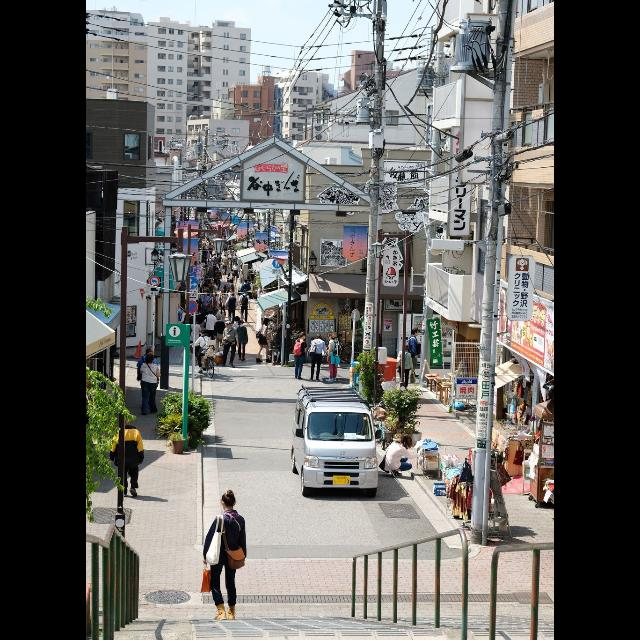head: (220, 492, 238, 512), (402, 434, 412, 448), (121, 414, 132, 426), (146, 353, 154, 362), (146, 348, 154, 356), (412, 328, 420, 336), (404, 344, 410, 352), (300, 332, 306, 340), (216, 316, 224, 322), (200, 329, 206, 336), (225, 322, 232, 328), (317, 334, 323, 341), (238, 322, 244, 328), (217, 314, 223, 320), (264, 319, 270, 325), (330, 332, 334, 340), (222, 286, 226, 292), (229, 287, 233, 293), (212, 292, 218, 296), (204, 291, 208, 297), (194, 318, 198, 324), (286, 319, 290, 325), (244, 290, 248, 294), (232, 292, 236, 296), (210, 310, 214, 314), (235, 317, 239, 321), (228, 279, 232, 283), (230, 270, 234, 274), (235, 262, 238, 266), (245, 279, 248, 283), (218, 255, 222, 258), (210, 268, 213, 272), (217, 267, 220, 271), (225, 254, 228, 256), (214, 255, 216, 258), (229, 248, 231, 250)
person: (200, 488, 248, 622), (108, 412, 144, 498), (378, 432, 424, 480), (136, 347, 160, 409), (140, 353, 162, 415), (395, 343, 417, 395), (325, 331, 345, 383), (308, 332, 328, 382), (192, 328, 212, 374), (292, 331, 310, 381), (221, 320, 239, 368), (274, 316, 292, 364), (406, 326, 422, 379), (256, 318, 272, 364), (234, 320, 250, 362), (202, 308, 218, 348), (213, 316, 229, 356), (231, 315, 245, 355), (189, 318, 203, 357), (239, 288, 253, 324), (225, 292, 239, 326), (225, 286, 239, 318), (200, 290, 214, 322), (216, 305, 227, 341), (240, 278, 252, 308), (210, 291, 222, 321), (223, 279, 235, 309), (219, 286, 229, 318), (208, 252, 220, 276), (232, 262, 242, 284), (224, 246, 233, 268), (227, 268, 236, 290), (214, 266, 223, 288), (222, 252, 230, 276), (207, 266, 215, 286), (215, 253, 222, 274)
